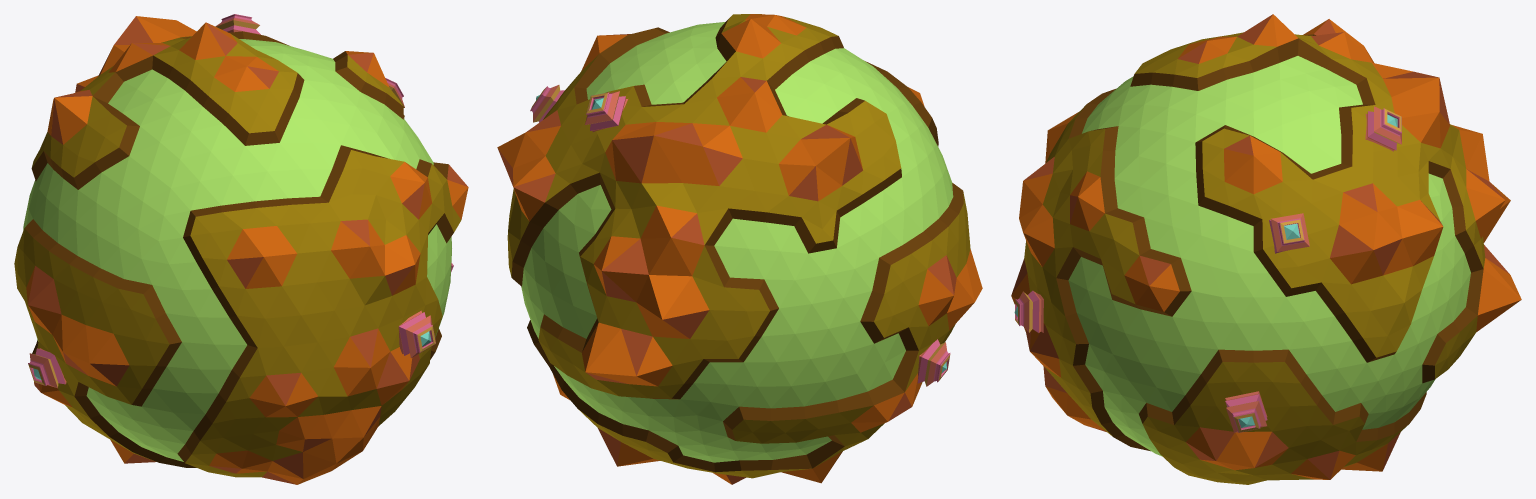
The model's file is planetModel.fbx.
3 views of the same model, side by side, from view 1: azimuth 30°, elevation 25°; view 2: azimuth 150°, elevation 25°; view 3: azimuth 270°, elevation 25° (orthographic). The views are drawn at different scales.
Visible parts, largest first — view 1: Icosphere, Plane.003, Plane.004, Plane; view 2: Icosphere, Plane, Plane.004, Plane.002; view 3: Icosphere, Plane.001, Plane, Plane.002, Plane.003.
Part boxes in pixels (box(x1,y1,x2,y2)): Icosphere: box(14, 16, 468, 484); Plane.003: box(398, 310, 435, 357); Plane.004: box(28, 348, 66, 388); Plane: box(215, 14, 260, 34); Icosphere: box(497, 14, 982, 484); Plane: box(585, 91, 627, 131); Plane.004: box(917, 339, 950, 386); Plane.002: box(530, 85, 564, 122); Icosphere: box(1011, 14, 1521, 484); Plane.001: box(1225, 391, 1267, 432); Plane: box(1365, 106, 1401, 151); Plane.002: box(1269, 213, 1309, 253); Plane.003: box(1014, 290, 1043, 332).
Size of the model in its own units: 1118 by 1158 by 1167.
